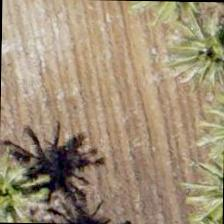Kelapa_Sawit: (175, 1, 223, 84), (0, 144, 49, 223)
